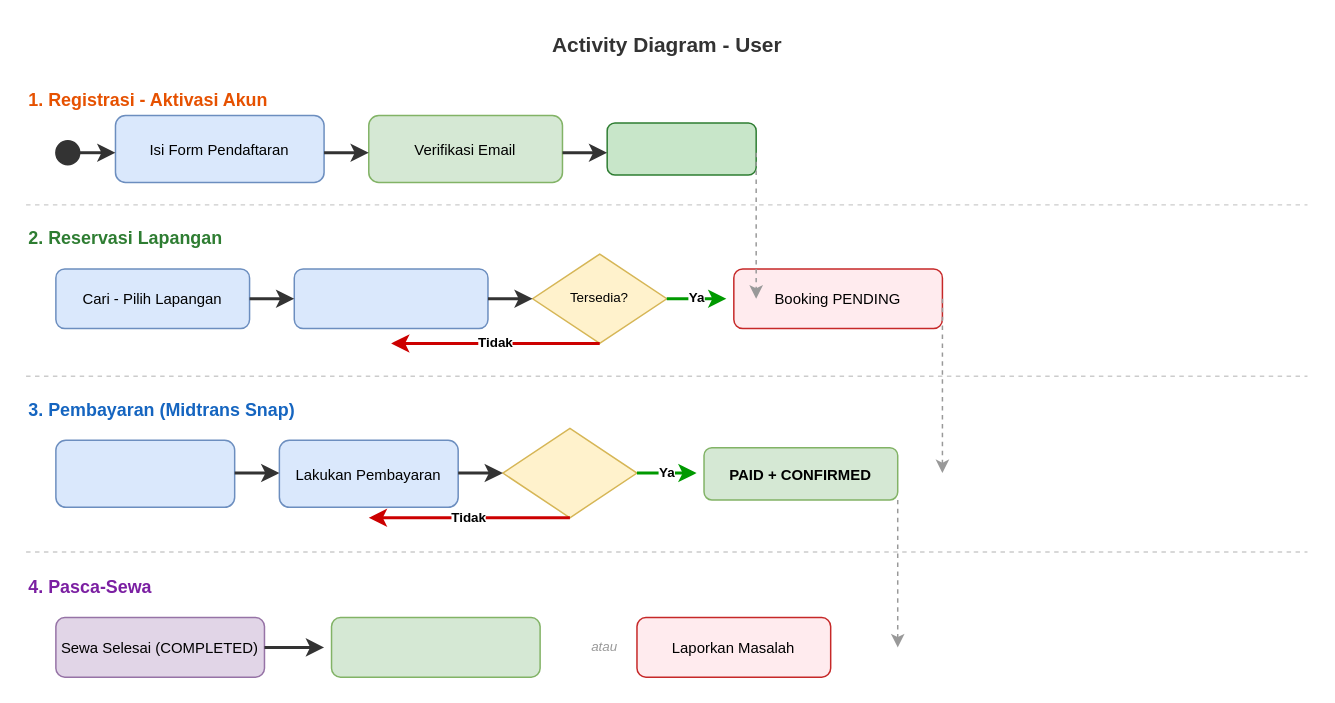
Image size: 1335x703. Some labels were removed from this diagram. The shapes that lost their labels are listed below. From the top down, each one's centre as x and y in pixels, then its label:
At pixel 681 148: "Akun Aktif".
At pixel 390 298: "Pilih Tanggal - Jam".
At pixel 144 473: "Buka Midtrans Snap".
At pixel 569 472: "Berhasil?".
At pixel 435 646: "Beri Rating - Komentar".
